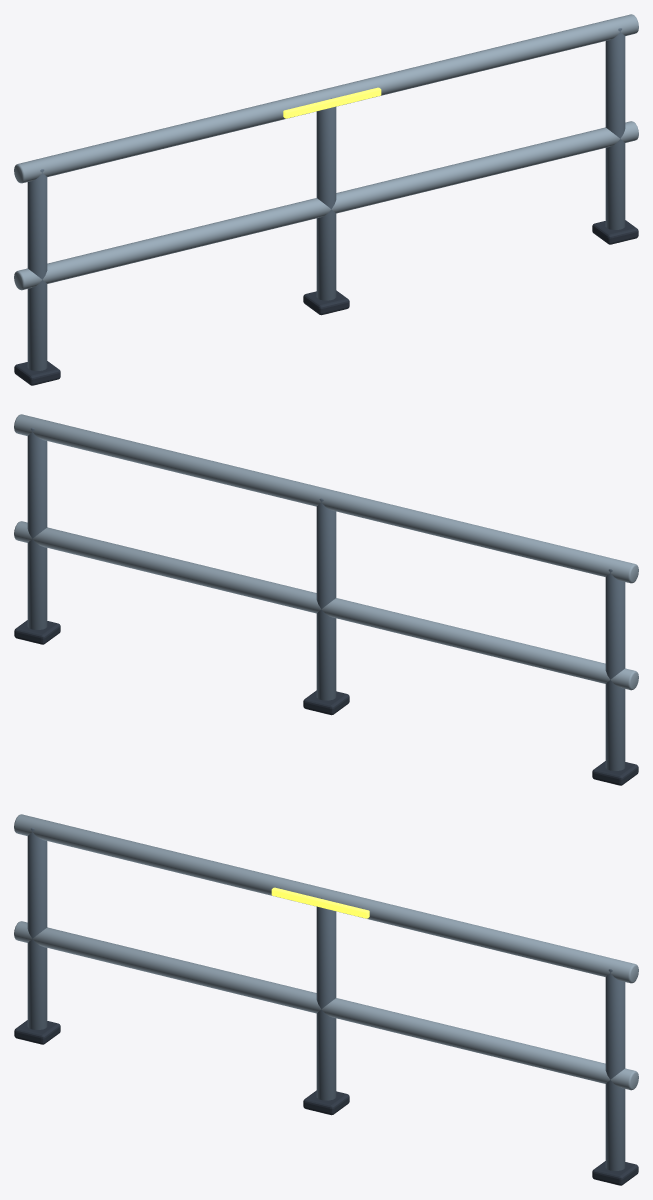
The model's file is SafetyRail.fbx.
The picture shows the model from 3 angles, top to bottom: view 1: azimuth 30°, elevation 25°; view 2: azimuth 150°, elevation 25°; view 3: azimuth 330°, elevation 25°; orthographic projection.
Visible parts, largest first — view 1: SafetyRail, SafetyRail.001, RailPost.002, RailPost, RailPost.001, RailIndicator, RailMount.001, RailMount, RailMount.002; view 2: SafetyRail.001, SafetyRail, RailPost.001, RailPost.002, RailPost, RailMount.001, RailMount, RailMount.002; view 3: SafetyRail, SafetyRail.001, RailPost, RailPost.002, RailPost.001, RailIndicator, RailMount.001, RailMount, RailMount.002.
Boxes of the visible parts, x1,y1,x2,y2 form: SafetyRail: (14, 121, 638, 290); SafetyRail.001: (14, 14, 638, 183); RailPost.002: (605, 28, 625, 229); RailPost: (27, 169, 47, 370); RailPost.001: (316, 98, 336, 300); RailIndicator: (283, 87, 381, 118); RailMount.001: (303, 290, 349, 315); RailMount: (14, 361, 60, 385); RailMount.002: (592, 220, 638, 244); SafetyRail.001: (14, 414, 638, 583); SafetyRail: (14, 521, 638, 690); RailPost.001: (316, 498, 336, 700); RailPost.002: (27, 428, 47, 629); RailPost: (605, 569, 625, 770); RailMount.001: (303, 690, 349, 715); RailMount: (592, 761, 638, 785); RailMount.002: (14, 620, 60, 644); SafetyRail: (14, 921, 638, 1090); SafetyRail.001: (14, 814, 638, 983); RailPost: (27, 828, 47, 1029); RailPost.002: (605, 969, 625, 1170); RailPost.001: (316, 898, 336, 1100); RailIndicator: (271, 887, 369, 918); RailMount.001: (303, 1090, 349, 1115); RailMount: (14, 1020, 60, 1044); RailMount.002: (592, 1161, 638, 1185).
Size of the model in its own units: 3.2 by 1.07 by 0.16.
